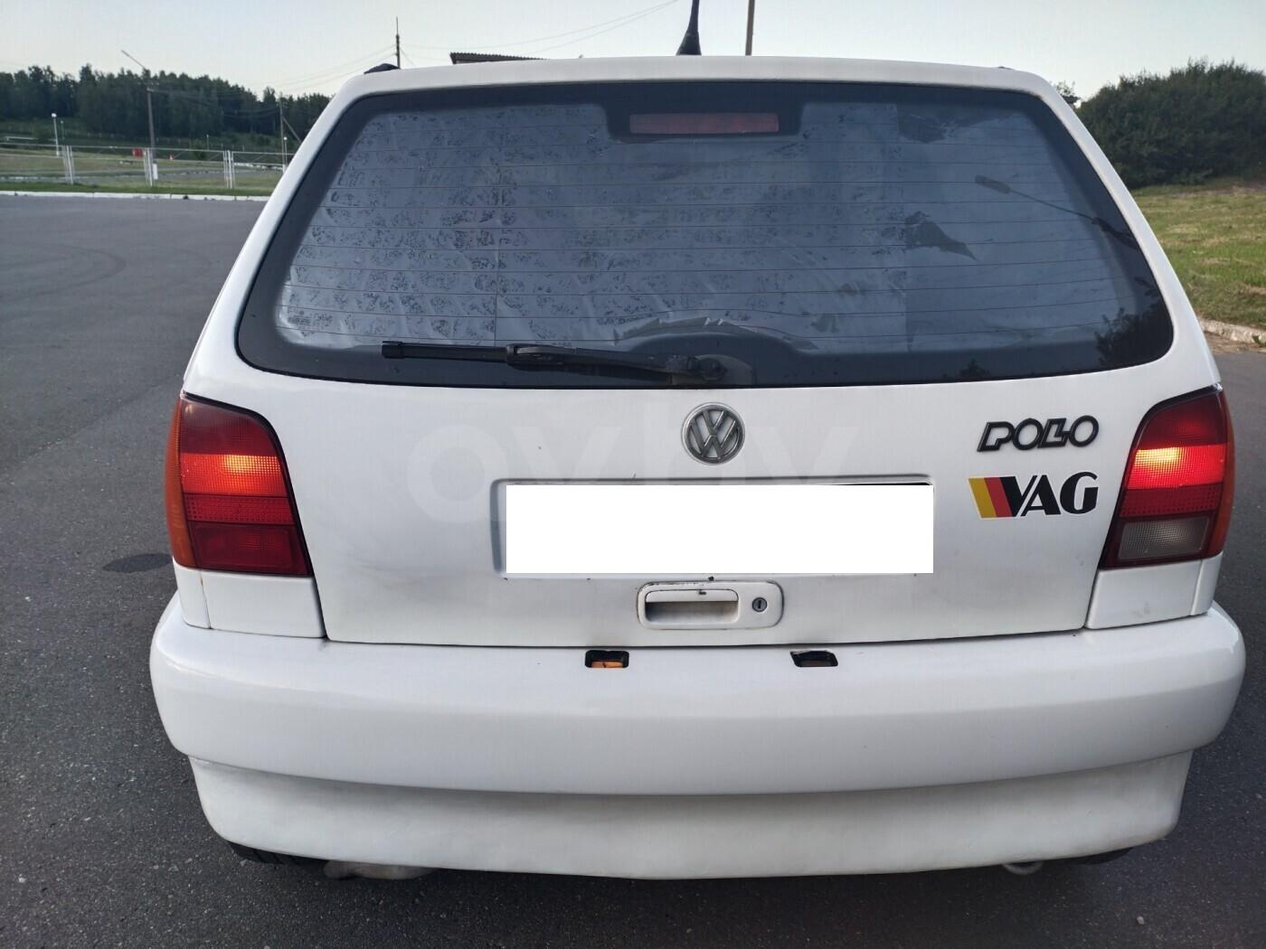Polo_1994-2002: (149, 52, 1245, 891)
